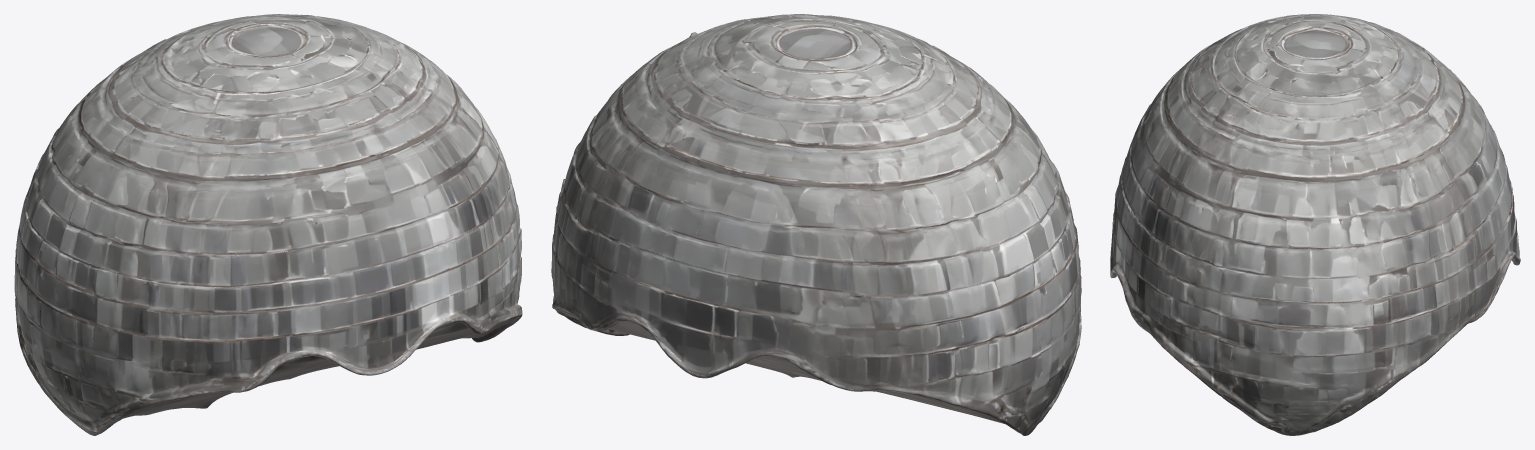
File: disco-silver-hair.glb
3 renders of one model, left to right at view 1: azimuth 30°, elevation 25°; view 2: azimuth 150°, elevation 25°; view 3: azimuth 270°, elevation 25°, orthographic. The views are drawn at different scales.
Visible parts, largest first — view 1: tripo_node_85b46871-56bb-4313-9db0-8a0c08a38048; view 2: tripo_node_85b46871-56bb-4313-9db0-8a0c08a38048; view 3: tripo_node_85b46871-56bb-4313-9db0-8a0c08a38048.
Part boxes in pixels (x1,y1,x2,y2): tripo_node_85b46871-56bb-4313-9db0-8a0c08a38048: (14,14,522,435); tripo_node_85b46871-56bb-4313-9db0-8a0c08a38048: (551,14,1081,435); tripo_node_85b46871-56bb-4313-9db0-8a0c08a38048: (1110,14,1520,435).
Bounding box in the file's own units: 1.28 × 0.9176 × 1.11.
Materials: 1 (1 with a texture image).
